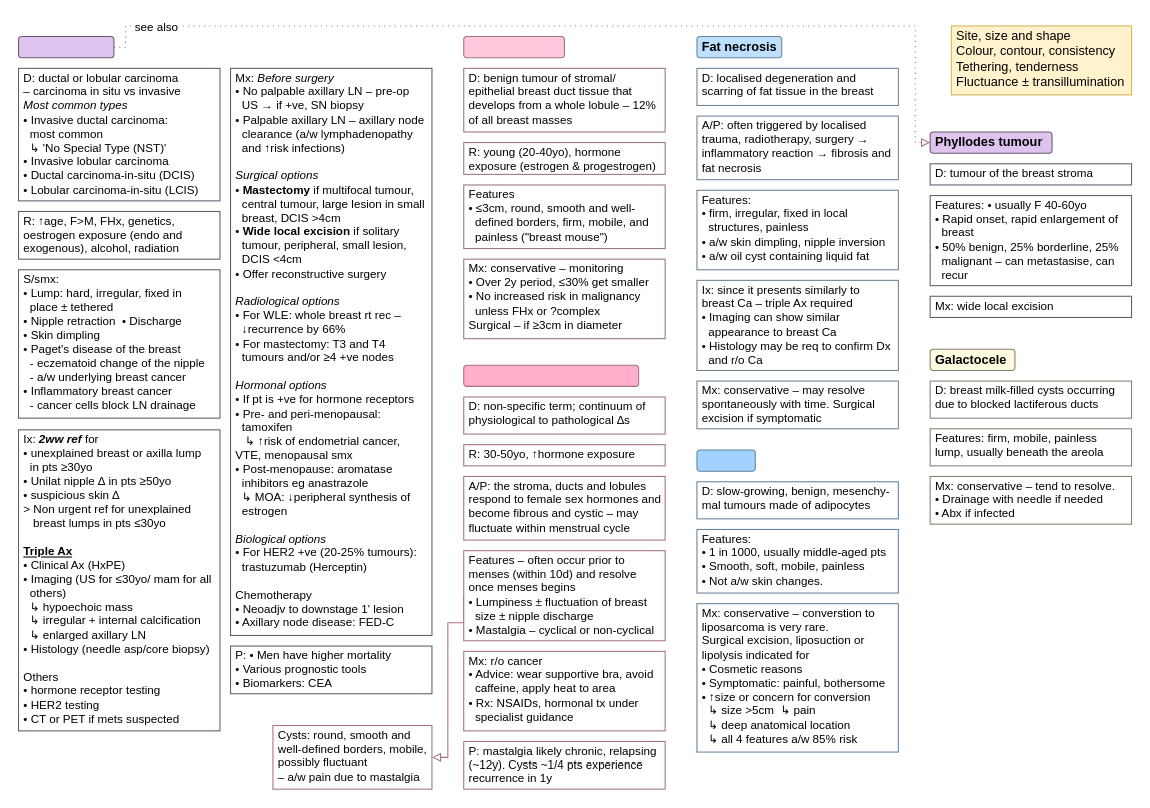
Image size: 1150x808. Some labels were removed from this diagram. Here are the shapes that lost their labels. From the top down, the box of each, then its label:
(17, 36, 114, 58): Breast cancer
(463, 36, 564, 58): Fibroadenoma
(463, 364, 639, 386): Fibrocystic breast changes
(696, 449, 755, 471): Lipoma
